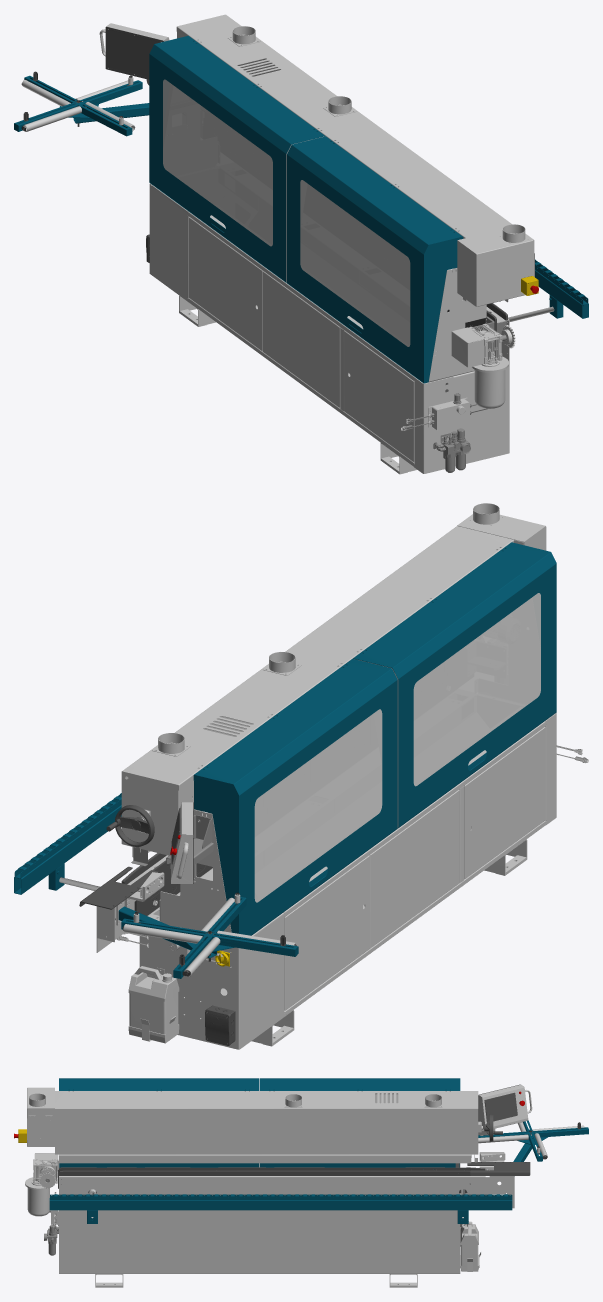
The picture shows the model from 3 angles, top to bottom: view 1: azimuth 30°, elevation 25°; view 2: azimuth 150°, elevation 25°; view 3: azimuth 270°, elevation 25°; orthographic projection. The views are drawn at different scales.
Parts seen in each view (by area): view 1: ??1 (×3), Object004, ??004; view 2: ??1 (×3), Object004, ??004; view 3: ??1 (×3), Object004.
Part boxes in pixels (bbox=[...]): ??1 (×3): bbox=[21, 14, 534, 474]; Object004: bbox=[14, 35, 588, 383]; ??004: bbox=[163, 79, 410, 346]; ??1 (×3): bbox=[79, 503, 556, 1049]; Object004: bbox=[14, 542, 556, 978]; ??004: bbox=[254, 593, 540, 902]; ??1 (×3): bbox=[25, 1079, 584, 1287]; Object004: bbox=[49, 1078, 588, 1223].
Bounding box in the file's own units: 0.0596 × 0.0581 × 0.1619.
